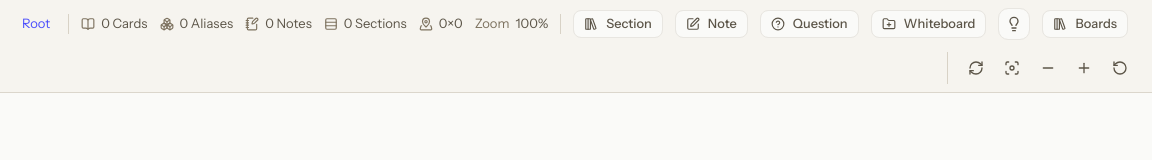
Scenario: GraphToolbar › Boards 下拉显示总实体数，避免只有非 card 内容的白板显示为 0
Click the button with aria-label "jump to whiteboard": [1085, 24] box [1042, 10, 1128, 38]
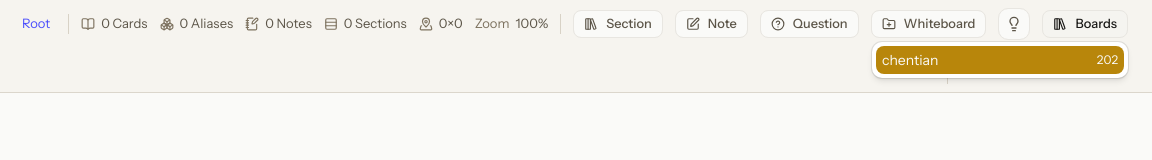
Expected: the text "chentian" is shown, [882, 50, 938, 70]
Expected: the text "202" is shown, [1097, 52, 1118, 68]
